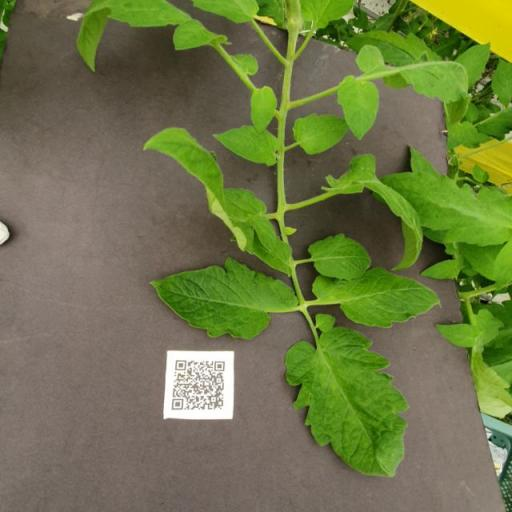Healthy: (284, 324, 411, 478), (148, 255, 299, 339), (313, 266, 442, 330), (210, 124, 282, 168), (336, 75, 382, 141), (309, 232, 372, 280), (292, 112, 348, 154), (250, 84, 278, 135)
